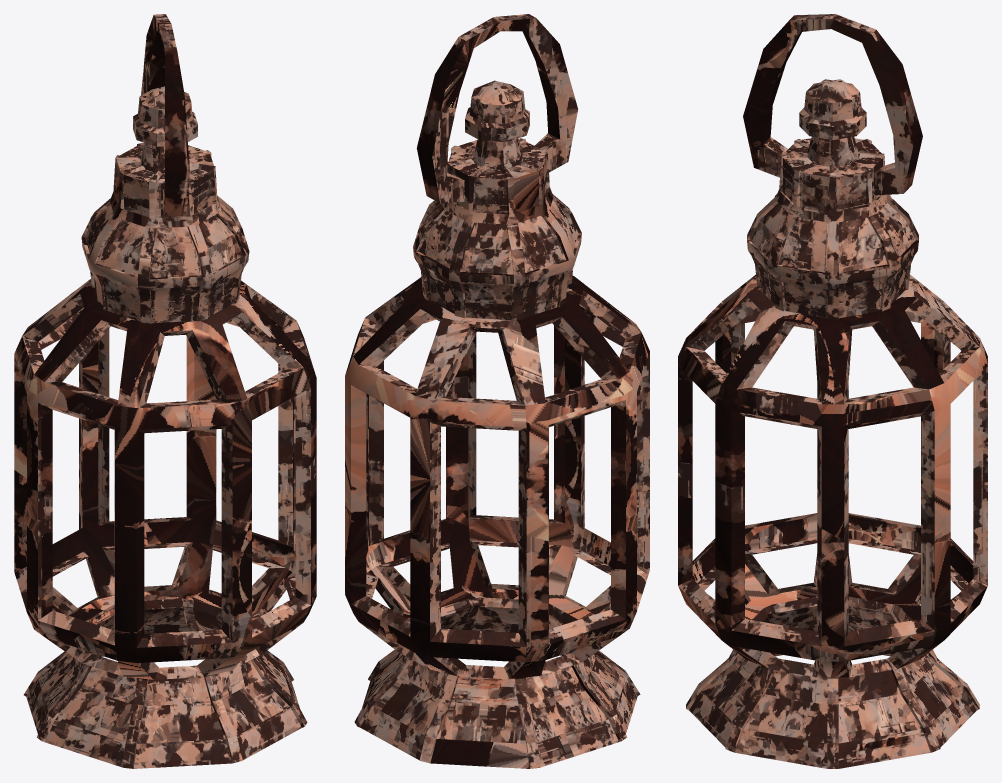
File: Lamparina.fbx
The picture shows the model from 3 angles, left to right: view 1: azimuth 30°, elevation 25°; view 2: azimuth 150°, elevation 25°; view 3: azimuth 270°, elevation 25°; orthographic projection.
Parts seen in each view (by area): view 1: Cylinder; view 2: Cylinder; view 3: Cylinder.
Part boxes in pixels (bbox=[...]): Cylinder: bbox=[14, 14, 316, 768]; Cylinder: bbox=[345, 14, 649, 768]; Cylinder: bbox=[678, 14, 987, 768].
Size of the model in its own units: 212 by 522 by 212.
